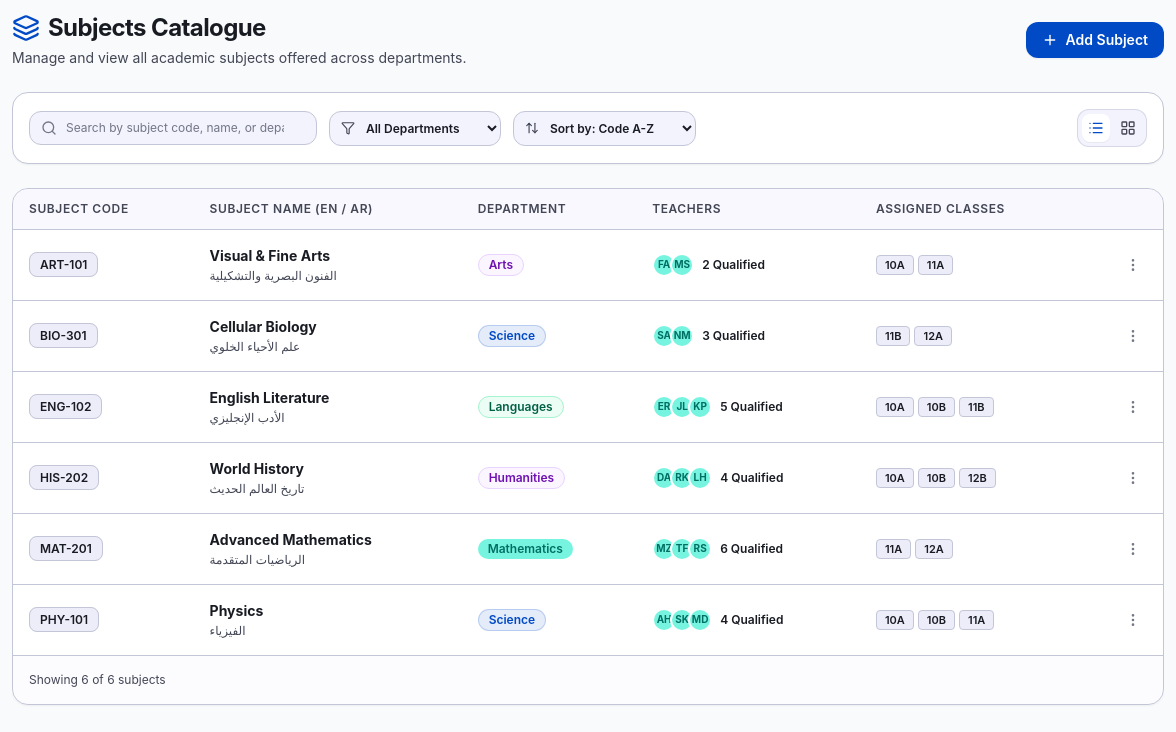
Scenario: SubjectsCataloguePage (Subjects Catalogue Stitch Clone) › toggles between list view and grid view
Click the button titled "Grid View" at (1128, 128), box x1=1114 y1=114 x2=1142 y2=142
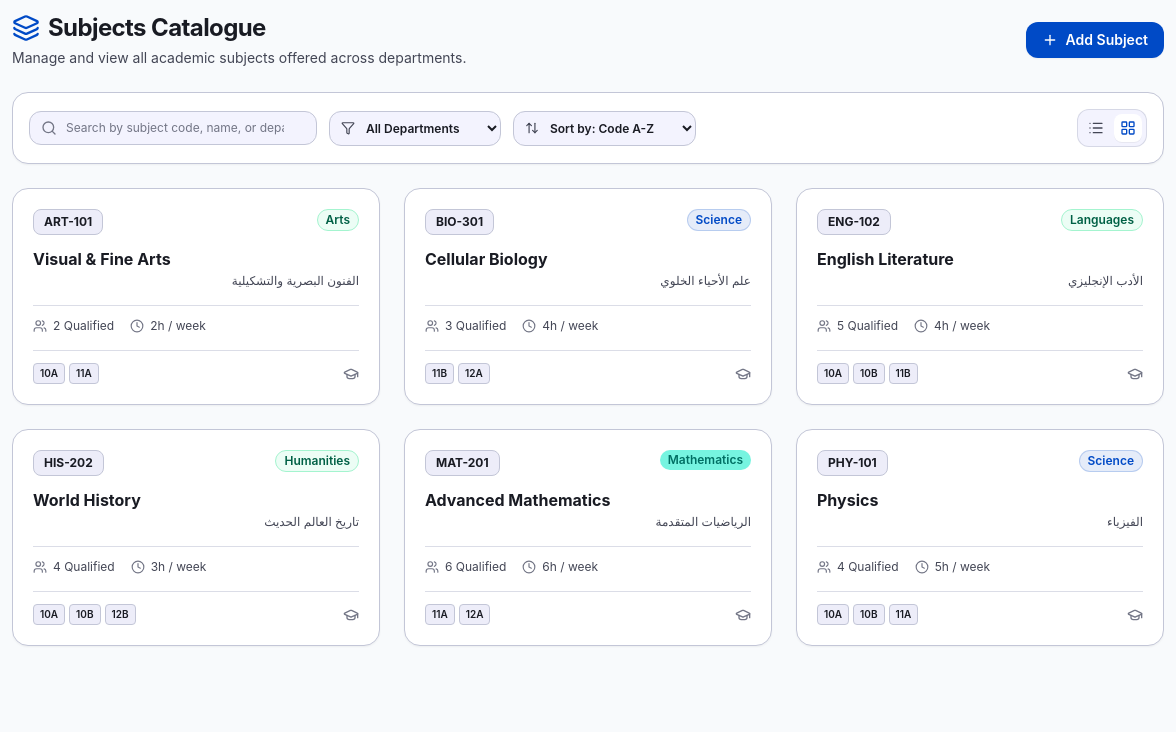
Check: the text "5h / week" is shown, box x1=935 y1=559 x2=990 y2=575
Click the button titled "List View" at (1096, 128), box x1=1082 y1=114 x2=1110 y2=142
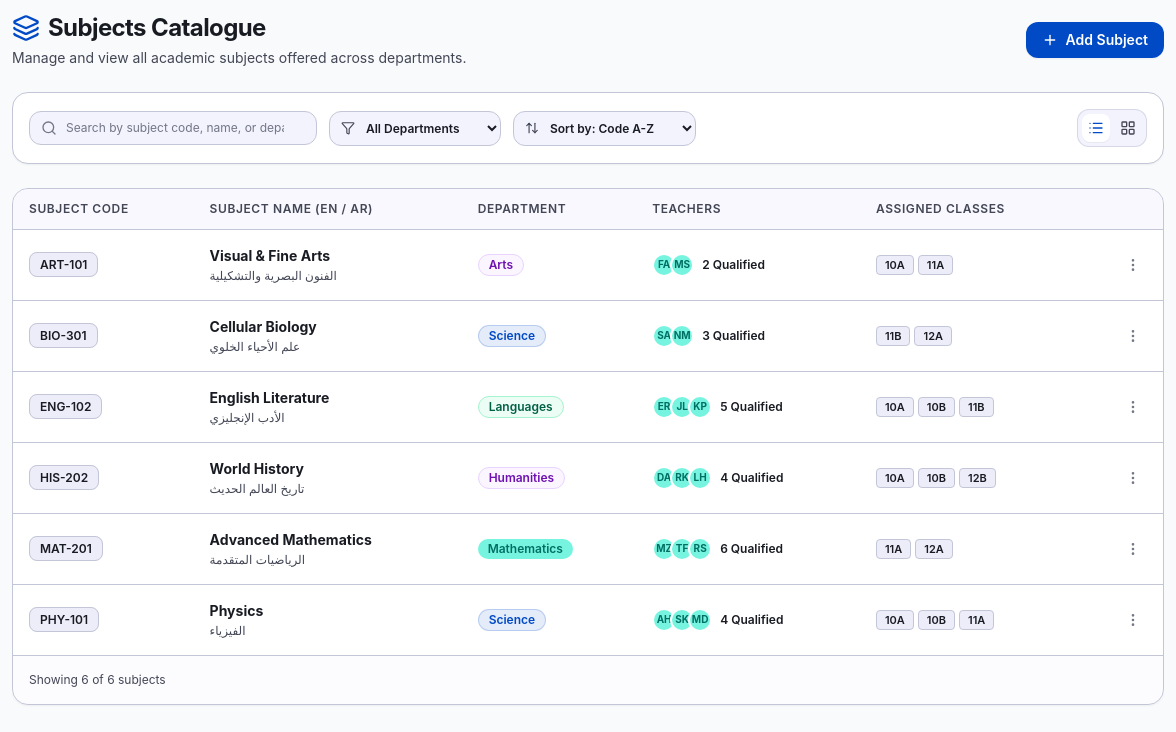
Check: the column heading "Subject Code" is shown, box x1=13 y1=189 x2=194 y2=230
